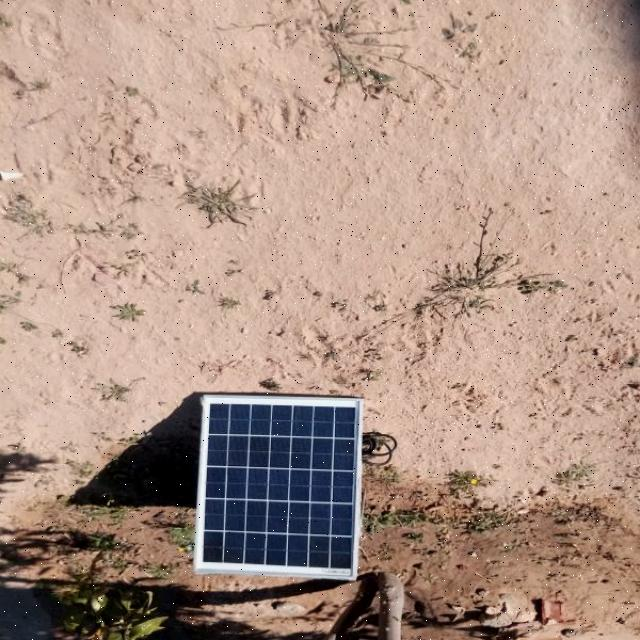Normal Solar Panel: (195, 395, 363, 579)
